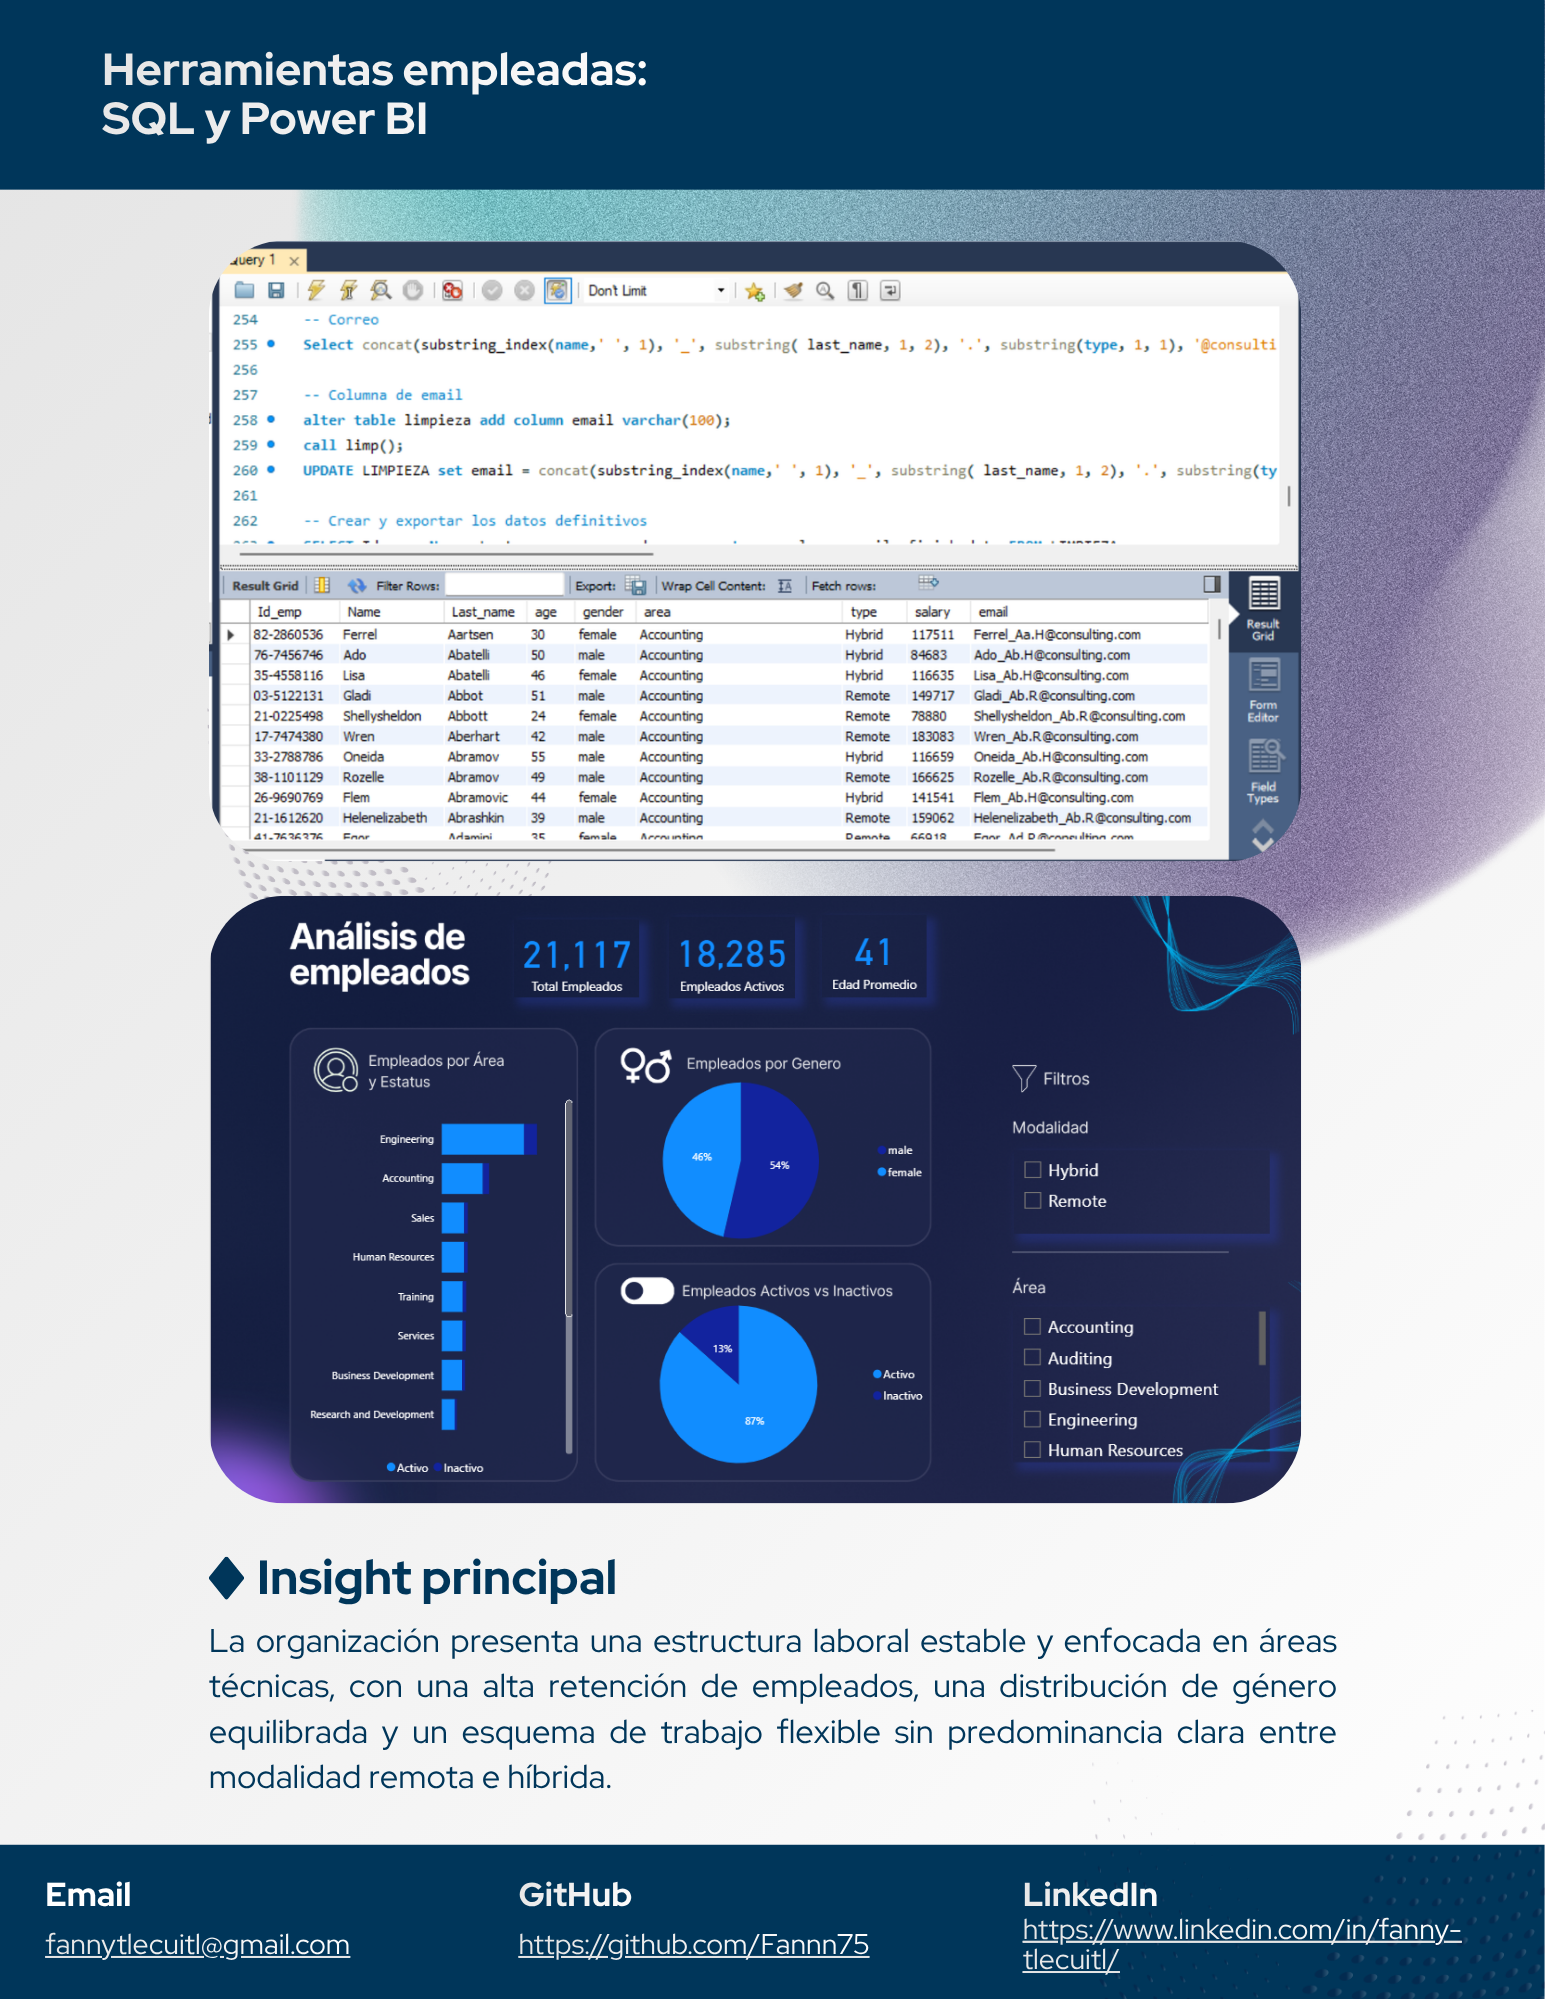

The page's visual inventory and layout, read from the dashboard file:
{"tool":"powerbi","page":{"name":"Página 1","canvas":[1280,720],"ordinal":0},"visuals":[{"type":"card","fields":{"Values":["empleados.Total Empleados"]},"box":[354.6,30.9,146.4,91.1],"z":0},{"type":"card","fields":{"Values":["Avg(empleados.age)"]},"box":[714.1,26,123.6,96],"z":1000},{"type":"card","fields":{"Values":["empleados.Empleados Activos"]},"box":[535.1,27.7,148,96],"z":2000},{"type":"barChart","fields":{"Category":["empleados.area"],"Series":["empleados.Estado"],"Y":["empleados.Total Empleados"]},"box":[100.8,229.3,326.9,461.9],"z":3000},{"type":"pieChart","fields":{"Category":["empleados.gender"],"Y":["empleados.Total Empleados"]},"box":[455.4,177.3,390.4,271.6],"z":4000},{"type":"pieChart","fields":{"Category":["empleados.Estado"],"Y":["empleados.Total Empleados"]},"box":[455.4,435.9,392,278.1],"z":5000},{"type":"slicer","fields":{"Values":["empleados.type"]},"box":[938.3,301.7,300,98.3],"z":6000},{"type":"slicer","fields":{"Values":["empleados.area"]},"box":[938,484,300,182],"z":7000}]}

Visuals, with their boxes on the page's 1280x720 design canvas (x1, y1, x2, y2). These are canvas units, not pixel positions in the 1545x1999 screenshot, which may show the page scaled, cropped or inside an application window:
card - empleados.Total Empleados: (left=355, top=31, right=501, bottom=122)
card - Avg(empleados.age): (left=714, top=26, right=838, bottom=122)
card - empleados.Empleados Activos: (left=535, top=28, right=683, bottom=124)
barChart - empleados.area x empleados.Estado: (left=101, top=229, right=428, bottom=691)
pieChart - empleados.gender x empleados.Total Empleados: (left=455, top=177, right=846, bottom=449)
pieChart - empleados.Estado x empleados.Total Empleados: (left=455, top=436, right=847, bottom=714)
slicer - empleados.type: (left=938, top=302, right=1238, bottom=400)
slicer - empleados.area: (left=938, top=484, right=1238, bottom=666)
